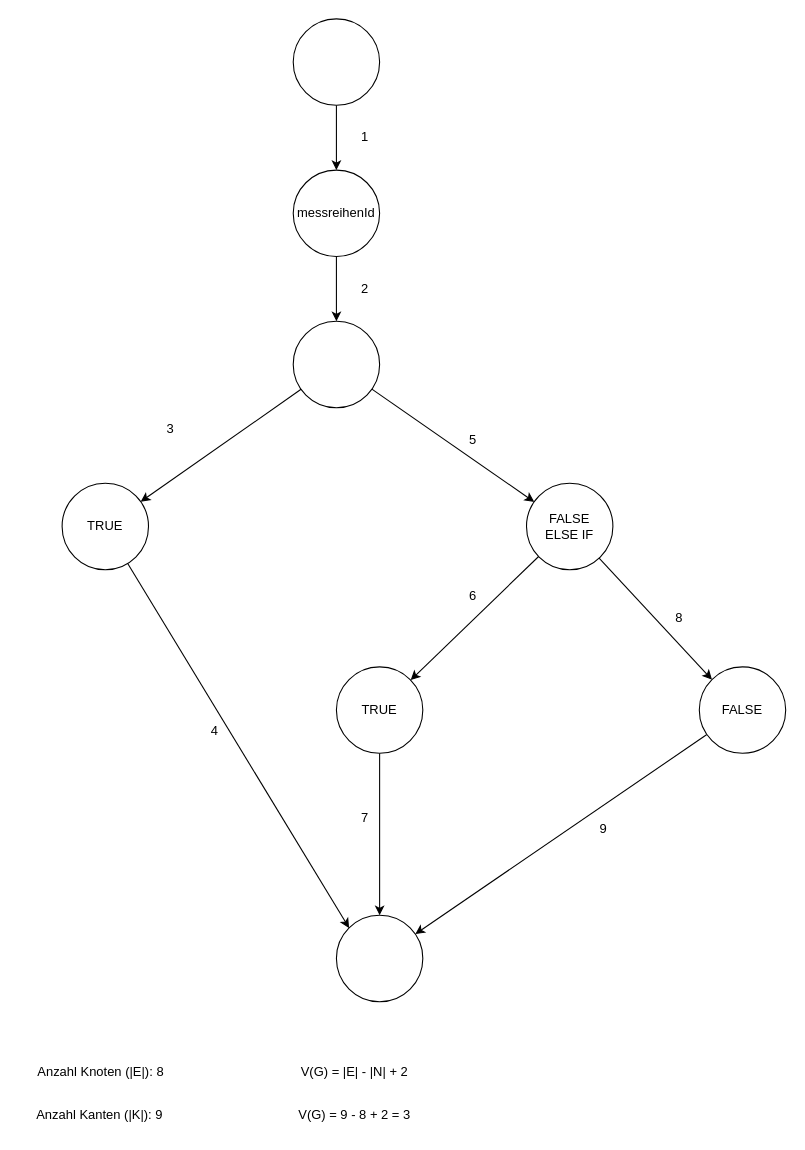
This 805x1150 diagram has some shape labels left out. The centre of each missing label's shape, as x and y in pixels:
"IF" goes at pixel 336 364.
"super()" goes at pixel 336 61.
"throws" goes at pixel 379 958.
